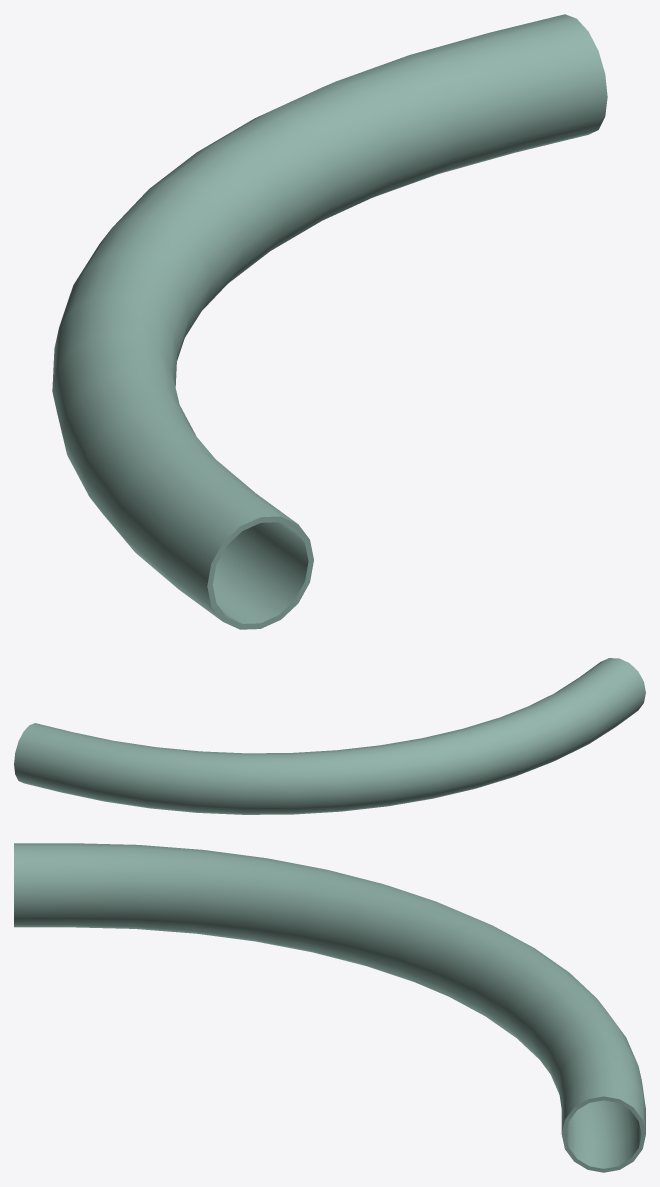
The model's file is PipeLarge_Hollow_Bent_05.fbx.
3 renders of one model, top to bottom at view 1: azimuth 30°, elevation 25°; view 2: azimuth 150°, elevation 25°; view 3: azimuth 270°, elevation 25°, orthographic. The views are drawn at different scales.
Parts seen in each view (by area): view 1: PipeLarge_Hollow_Bent_05.001; view 2: PipeLarge_Hollow_Bent_05.001; view 3: PipeLarge_Hollow_Bent_05.001.
Boxes of the visible parts, x1,y1,x2,y2 form: PipeLarge_Hollow_Bent_05.001: (52,14,607,629); PipeLarge_Hollow_Bent_05.001: (14,658,645,814); PipeLarge_Hollow_Bent_05.001: (14,843,645,1172).
Bounding box in the file's own units: 1.5 × 0.2 × 1.5.
